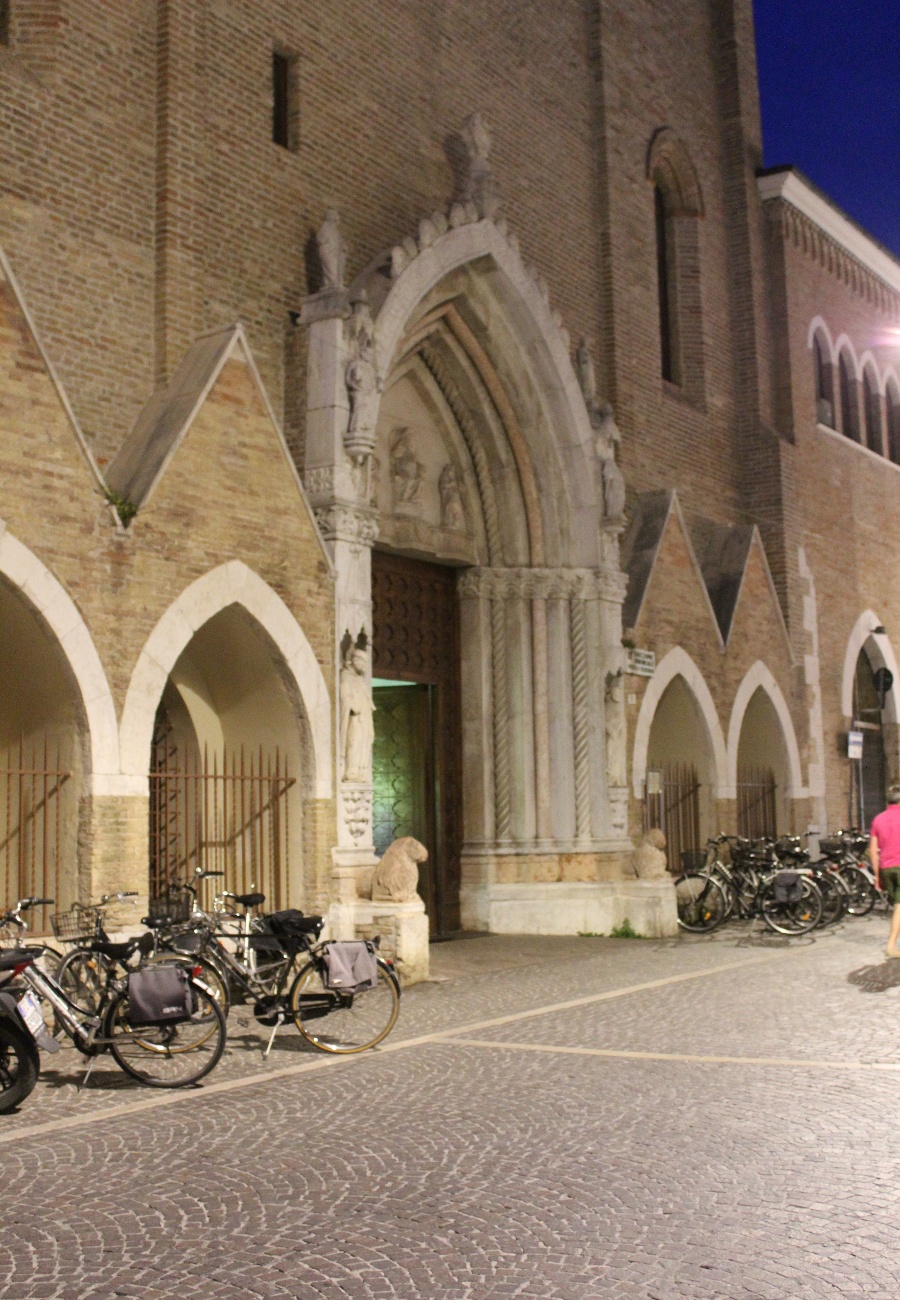Portale San Domenico: (324, 111, 683, 982)
